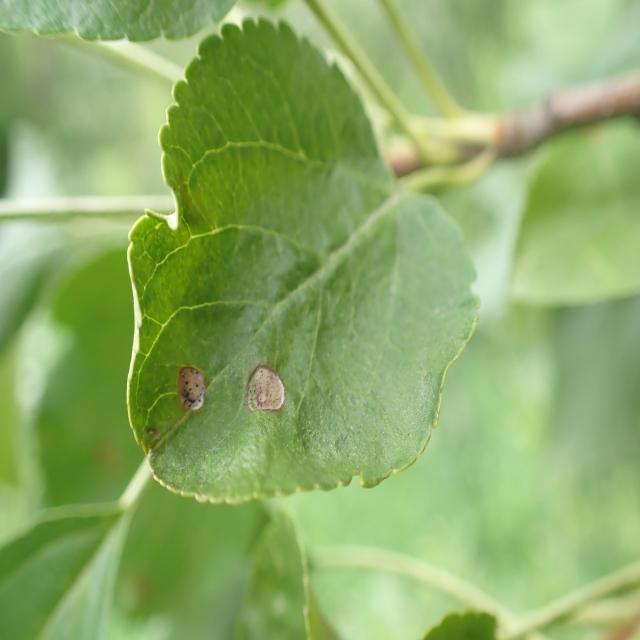Black Rot: (231, 347, 297, 424), (172, 352, 222, 436)
